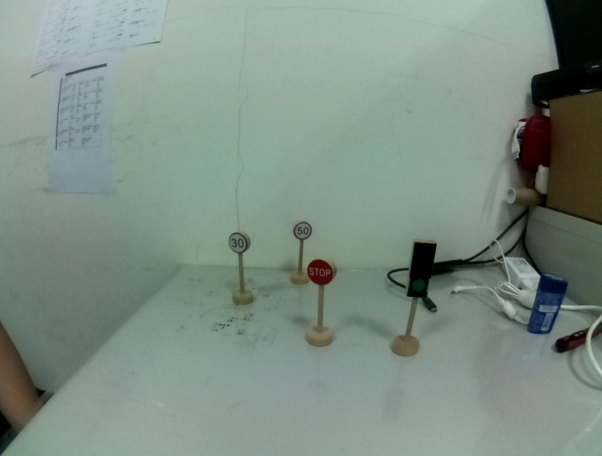Green: (403, 236, 439, 305)
Speed30: (227, 230, 251, 254)
Speed50: (292, 219, 314, 242)
Stop: (305, 258, 342, 287)
